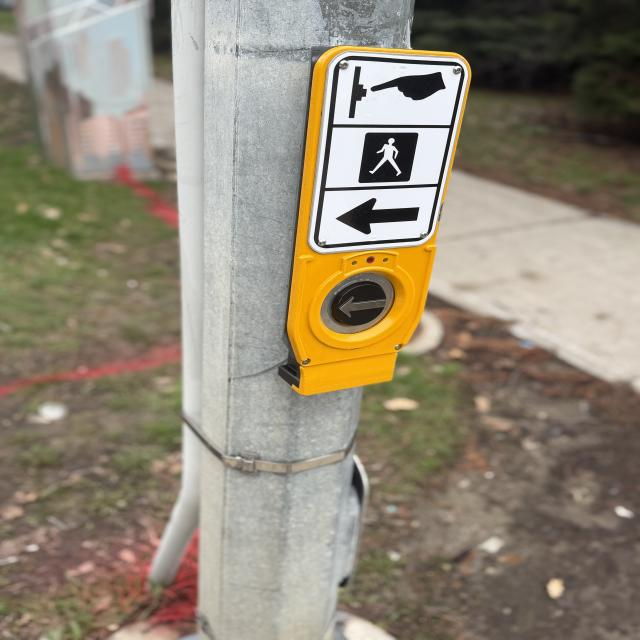Electrical Pole: (166, 2, 482, 639)
